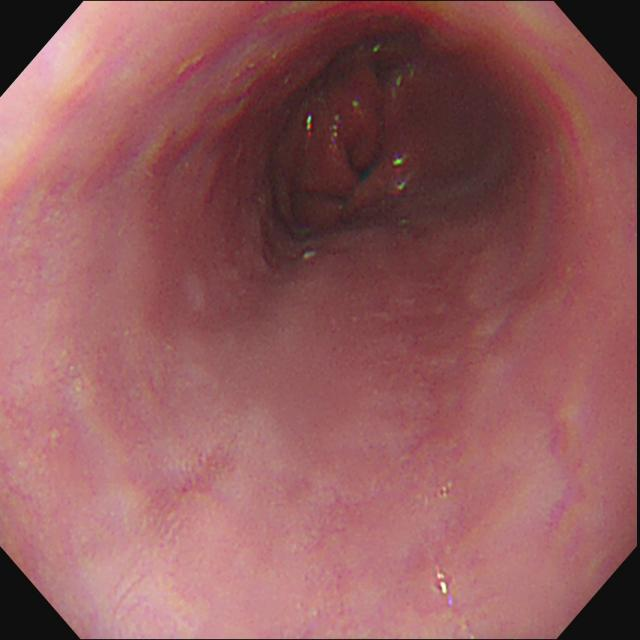I: (285, 80, 430, 234)
U: (437, 566, 449, 597), (306, 116, 314, 139), (394, 156, 408, 168)
